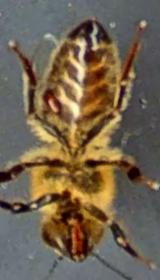varroa_mite: (36, 82, 72, 124)
